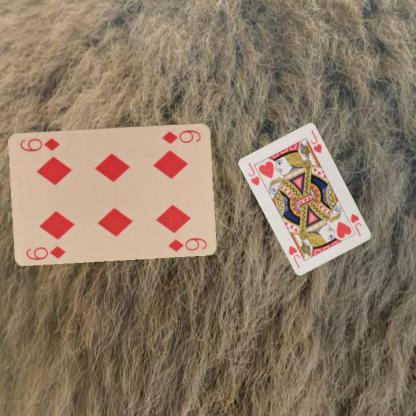6d: (24, 243, 67, 261), (160, 127, 202, 145)
Jh: (246, 160, 261, 188), (348, 211, 363, 237)
